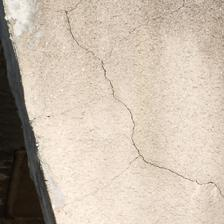Crack: (63, 19, 161, 121), (66, 51, 224, 101)
